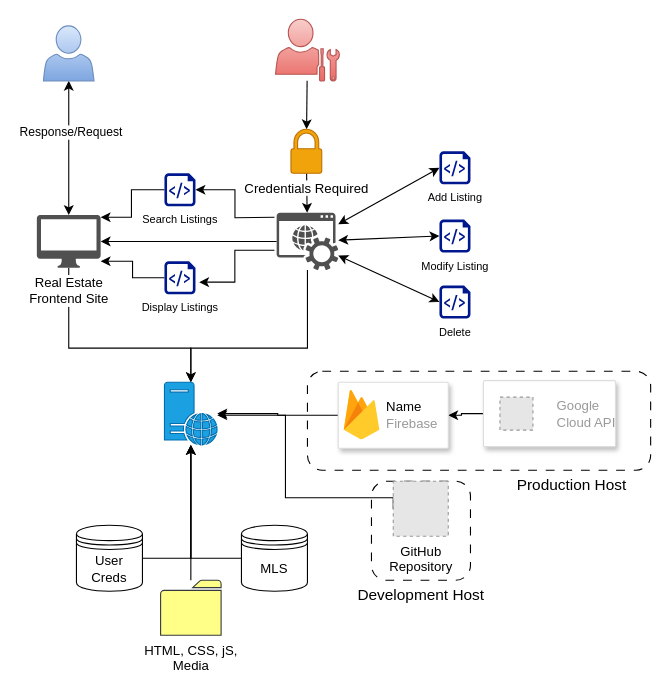
Some shapes in this 670 by 694 pixel diagram are drawn without their labels. Grey dashed boxes stand in for pictures. Here are the shapes that lost their labels. From the top down, the centre of each, then its label:
At (x=68, y=53): "Frontend User".
At (x=306, y=49): "Admin User".
At (x=307, y=241): "IDX/MLS Dashboard".
At (x=190, y=413): "Web Server GitHub (Development) Firebase (Production)".
